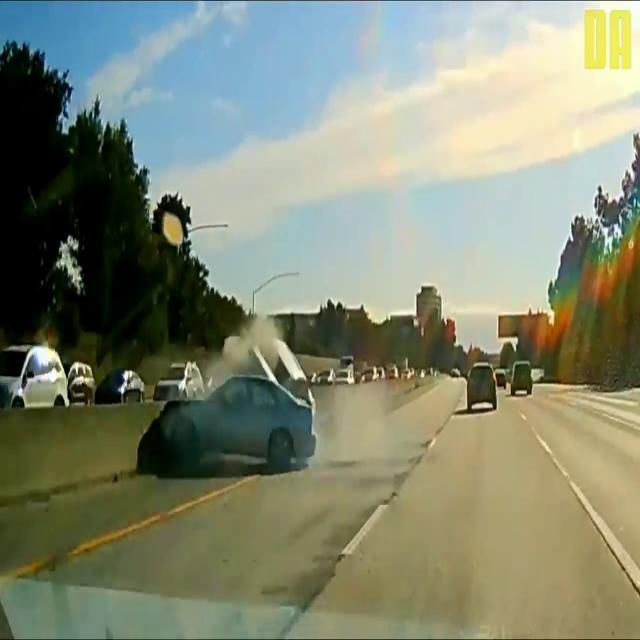accident: (139, 336, 319, 472)
non-accident: (0, 346, 146, 408), (0, 346, 96, 406), (466, 358, 534, 412), (332, 356, 384, 388), (316, 368, 356, 388)
